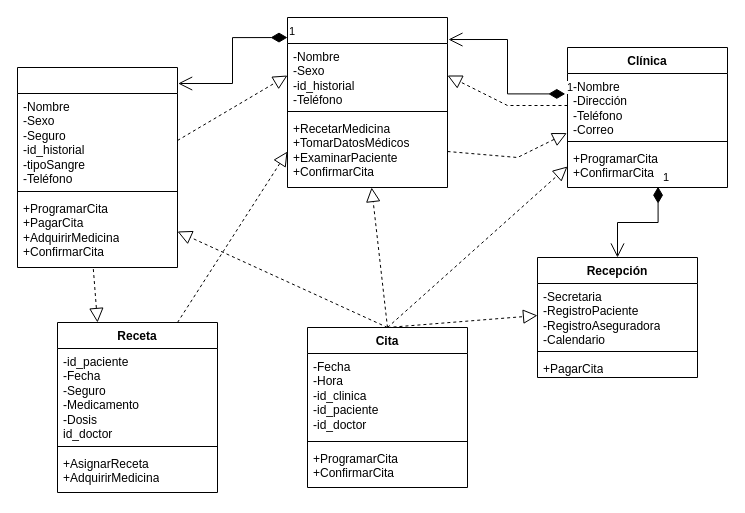
This 745x513 diagram has some shape labels left out. Here are the shapes that lost their labels. From the top down, the box of each, then its label:
(286, 16, 448, 188): Doctor
(16, 66, 178, 268): Paciente
